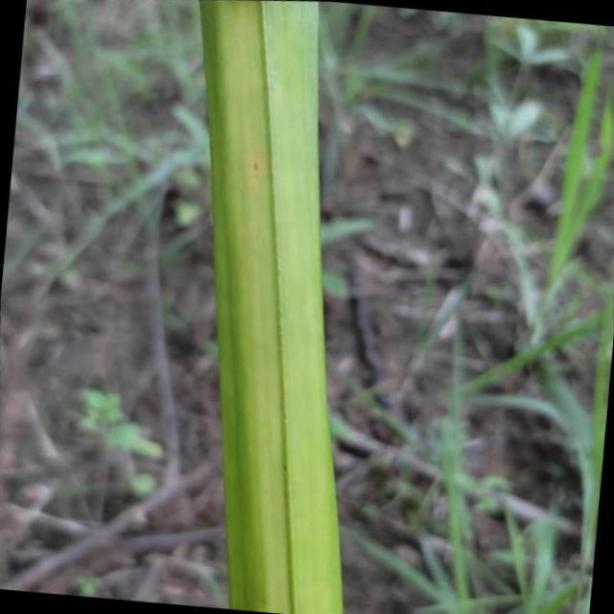nitrogen: (198, 0, 344, 614)
